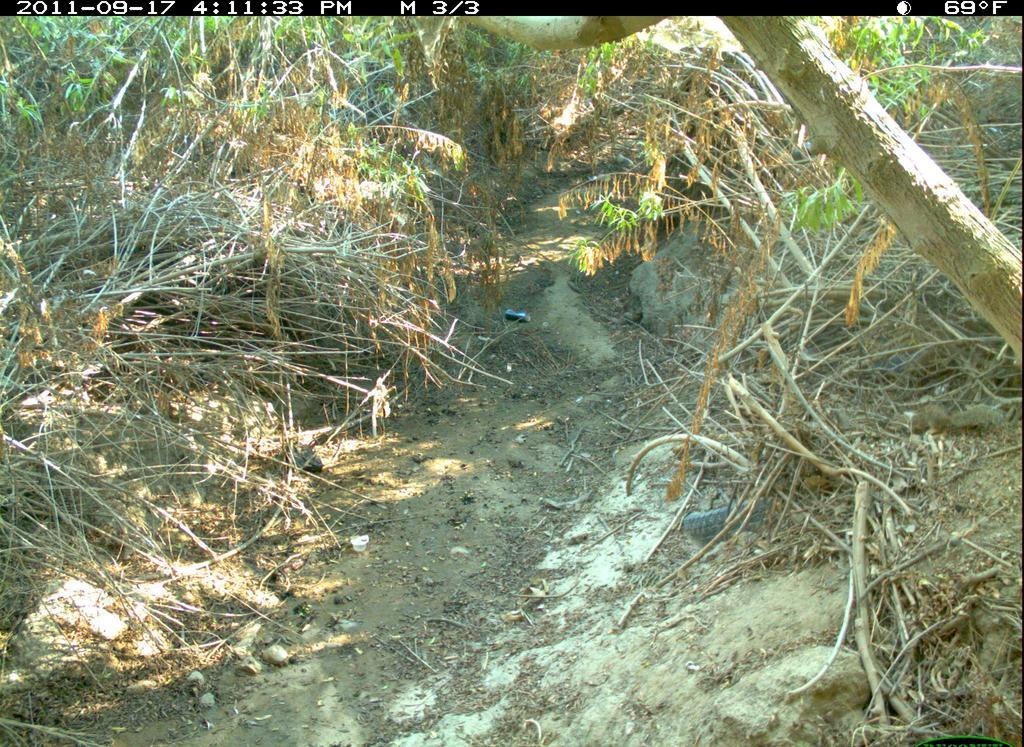squirrel: (895, 391, 1008, 442)
